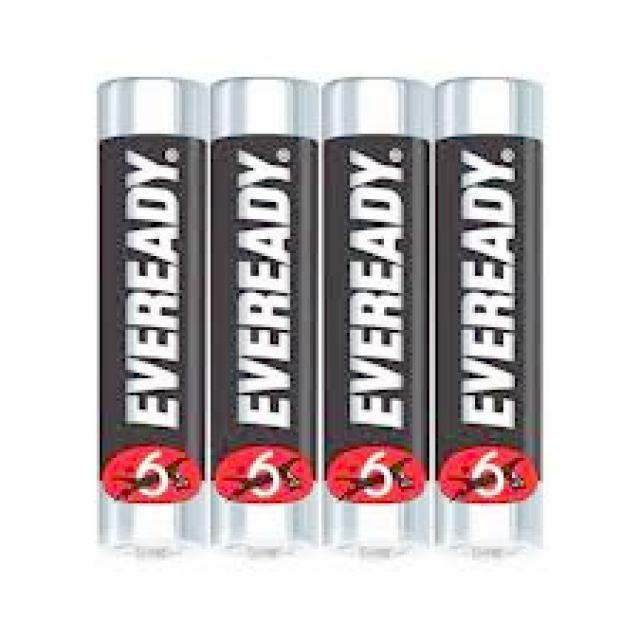battery: (433, 75, 545, 563), (96, 76, 208, 563), (321, 76, 431, 563), (210, 77, 319, 561)
